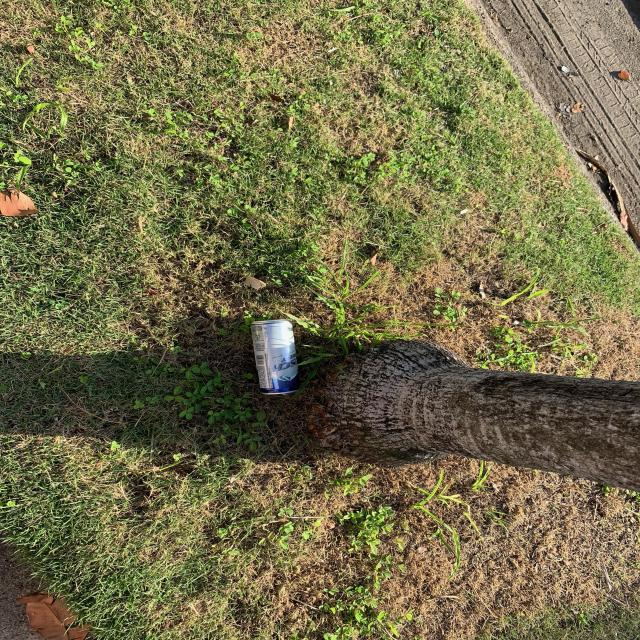litter: (250, 319, 300, 395)
